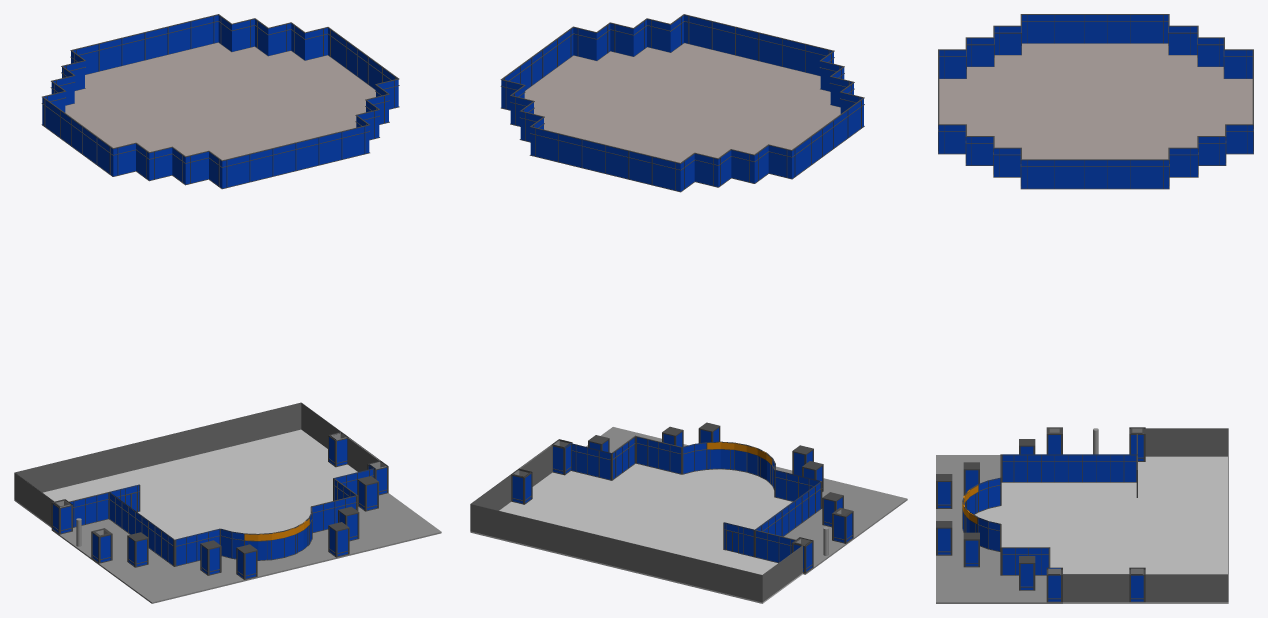
File: floor15.glb
The picture shows the model from 3 angles, left to right: view 1: azimuth 30°, elevation 25°; view 2: azimuth 150°, elevation 25°; view 3: azimuth 270°, elevation 25°; orthographic projection. The views are drawn at different scales.
Parts seen in each view (by area): view 1: Floor plans 2ND Floor (1), Floor plans 15TH Floor (1), Floor plans 15TH Floor Window Glass, Floor plans 2ND Floor Walls, Floor plans 2ND Floor Window Glass, Floor plans 15TH Floor Window Joinery, Floor plans 2ND Floor Window Joinery; view 2: Floor plans 2ND Floor (1), Floor plans 15TH Floor (1), Floor plans 15TH Floor Window Glass, Floor plans 2ND Floor Walls, Floor plans 2ND Floor Window Glass, Floor plans 15TH Floor Window Joinery, Floor plans 2ND Floor Window Joinery; view 3: Floor plans 2ND Floor (1), Floor plans 15TH Floor (1), Floor plans 15TH Floor Window Glass, Floor plans 2ND Floor Walls, Floor plans 2ND Floor Window Glass, Floor plans 15TH Floor Window Joinery, Floor plans 2ND Floor Window Joinery.
Boxes of the visible parts, x1=… form: Floor plans 2ND Floor (1): x1=14, y1=429, x2=441, y2=603; Floor plans 15TH Floor (1): x1=65, y1=42, x2=375, y2=160; Floor plans 15TH Floor Window Glass: x1=42, y1=15, x2=398, y2=188; Floor plans 2ND Floor Walls: x1=14, y1=402, x2=380, y2=526; Floor plans 2ND Floor Window Glass: x1=70, y1=469, x2=374, y2=565; Floor plans 15TH Floor Window Joinery: x1=41, y1=14, x2=399, y2=189; Floor plans 2ND Floor Window Joinery: x1=69, y1=468, x2=373, y2=566; Floor plans 2ND Floor (1): x1=470, y1=422, x2=907, y2=603; Floor plans 15TH Floor (1): x1=524, y1=43, x2=840, y2=162; Floor plans 15TH Floor Window Glass: x1=501, y1=15, x2=863, y2=191; Floor plans 2ND Floor Walls: x1=470, y1=445, x2=802, y2=602; Floor plans 2ND Floor Window Glass: x1=571, y1=437, x2=820, y2=562; Floor plans 15TH Floor Window Joinery: x1=500, y1=14, x2=864, y2=192; Floor plans 2ND Floor Window Joinery: x1=571, y1=435, x2=822, y2=562; Floor plans 2ND Floor (1): x1=936, y1=427, x2=1228, y2=603; Floor plans 15TH Floor (1): x1=939, y1=43, x2=1252, y2=159; Floor plans 15TH Floor Window Glass: x1=938, y1=15, x2=1253, y2=188; Floor plans 2ND Floor Walls: x1=1063, y1=428, x2=1228, y2=602; Floor plans 2ND Floor Window Glass: x1=962, y1=454, x2=1136, y2=574; Floor plans 15TH Floor Window Joinery: x1=938, y1=14, x2=1253, y2=189; Floor plans 2ND Floor Window Joinery: x1=962, y1=434, x2=1137, y2=575.
Size of the model in its own units: 38.44 by 53.89 by 35.01.
